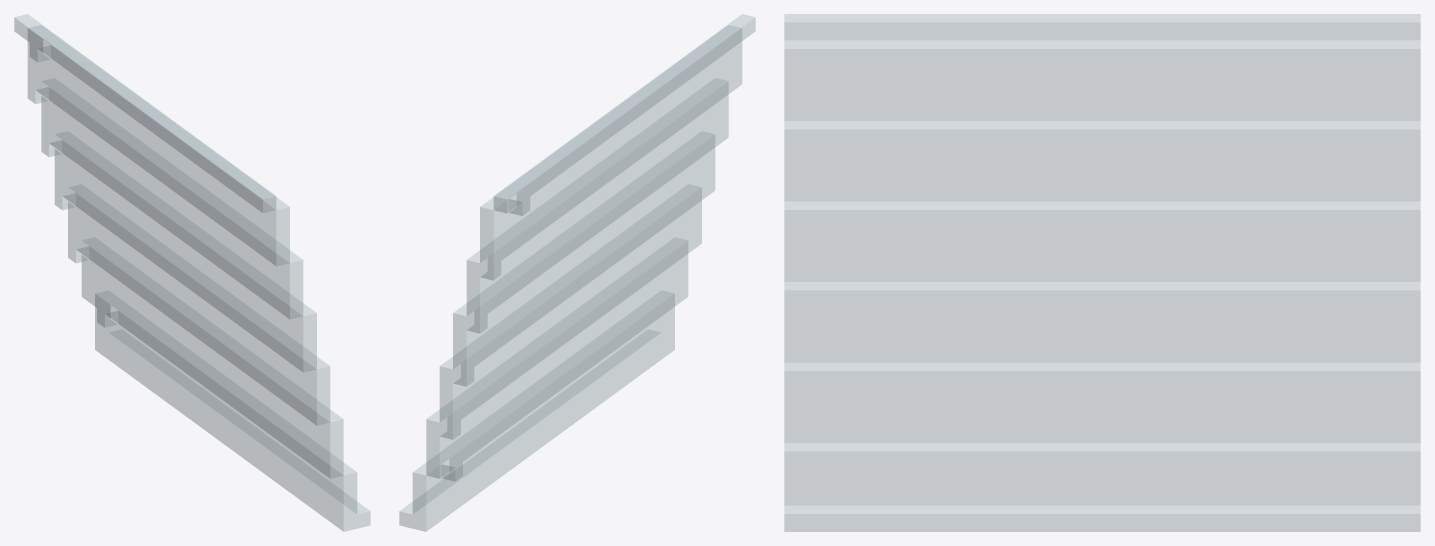
File: golf_cart_windscreen.glb
3 views of the same model, side by side, from view 1: azimuth 30°, elevation 25°; view 2: azimuth 150°, elevation 25°; view 3: azimuth 270°, elevation 25° (orthographic). The views are drawn at different scales.
Parts seen in each view (by area): view 1: body:compound; view 2: body:compound; view 3: body:compound.
Part boxes in pixels (bbox=[...]): body:compound: bbox=[14, 14, 370, 531]; body:compound: bbox=[399, 14, 755, 531]; body:compound: bbox=[784, 14, 1420, 531].
Bounding box in the file's own units: 0.25 × 0.7812 × 1.
